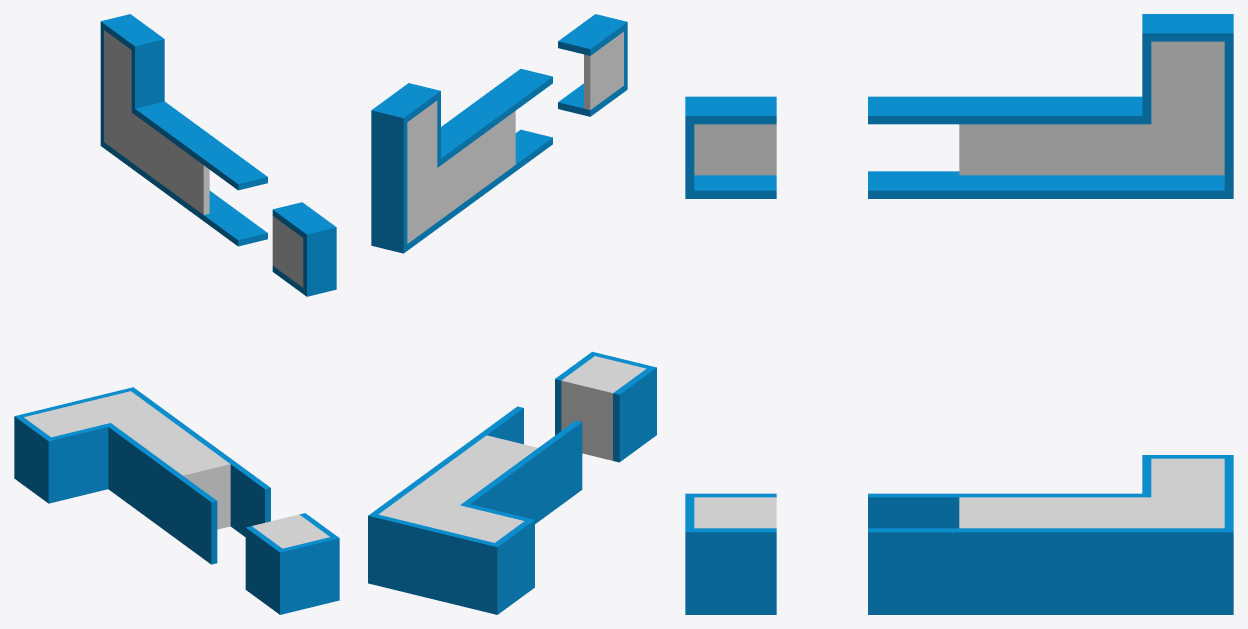
The model's file is stage1.fbx.
The picture shows the model from 3 angles, left to right: view 1: azimuth 30°, elevation 25°; view 2: azimuth 150°, elevation 25°; view 3: azimuth 270°, elevation 25°; orthographic projection. The views are drawn at different scales.
Parts seen in each view (by area): view 1: kado3d.002, kado3d.001, tyoku3d.003, kado2d.002, kado2d.001, hole3d.001, tyoku3d.001, tyoku2d.002, tyoku2d.003, 立方体.003, elu2d.001, 立方体.001; view 2: kado3d.002, kado3d.001, 立方体.001, kado2d.002, kado2d.001, elu2d.001, tyoku3d.003, tyoku2d.002, hole3d.001, tyoku2d.003, tyoku3d.001, 立方体.003; view 3: kado3d.001, hole3d.001, 立方体.001, tyoku3d.001, tyoku3d.003, kado2d.001, tyoku2d.002, tyoku2d.003, elu2d.001, kado2d.002, 立方体.003, kado3d.002.
Part boxes in pixels (<box>): kado3d.002: <box>14,401,108,503</box>; kado3d.001: <box>245,513,339,614</box>; tyoku3d.003: <box>142,437,235,538</box>; kado2d.002: <box>100,14,164,108</box>; kado2d.001: <box>272,202,336,296</box>; hole3d.001: <box>177,462,270,564</box>; tyoku3d.001: <box>108,412,201,513</box>; tyoku2d.002: <box>169,126,232,220</box>; tyoku2d.003: <box>135,101,198,195</box>; 立方体.003: <box>203,152,267,246</box>; elu2d.001: <box>100,84,134,170</box>; 立方体.001: <box>74,387,167,426</box>; kado3d.002: <box>432,504,534,614</box>; kado3d.001: <box>555,351,656,462</box>; 立方体.001: <box>368,488,469,598</box>; kado2d.002: <box>371,83,440,185</box>; kado2d.001: <box>558,14,627,116</box>; elu2d.001: <box>371,159,440,253</box>; tyoku3d.003: <box>443,433,544,523</box>; tyoku2d.002: <box>446,96,515,198</box>; hole3d.001: <box>480,406,582,516</box>; tyoku2d.003: <box>441,123,478,225</box>; tyoku3d.001: <box>406,461,507,512</box>; 立方体.003: <box>484,69,552,171</box>; kado3d.001: <box>685,493,776,614</box>; hole3d.001: <box>868,493,959,614</box>; 立方体.001: <box>1142,493,1233,614</box>; tyoku3d.001: <box>1051,493,1142,614</box>; tyoku3d.003: <box>959,493,1050,614</box>; kado2d.001: <box>685,96,776,198</box>; tyoku2d.002: <box>959,96,1050,198</box>; tyoku2d.003: <box>1051,96,1142,198</box>; elu2d.001: <box>1142,100,1233,198</box>; kado2d.002: <box>1142,14,1233,115</box>; 立方体.003: <box>868,96,959,198</box>; kado3d.002: <box>1142,455,1233,493</box>.
Bounding box in the file's own units: 4000 × 14000 × 12000.
